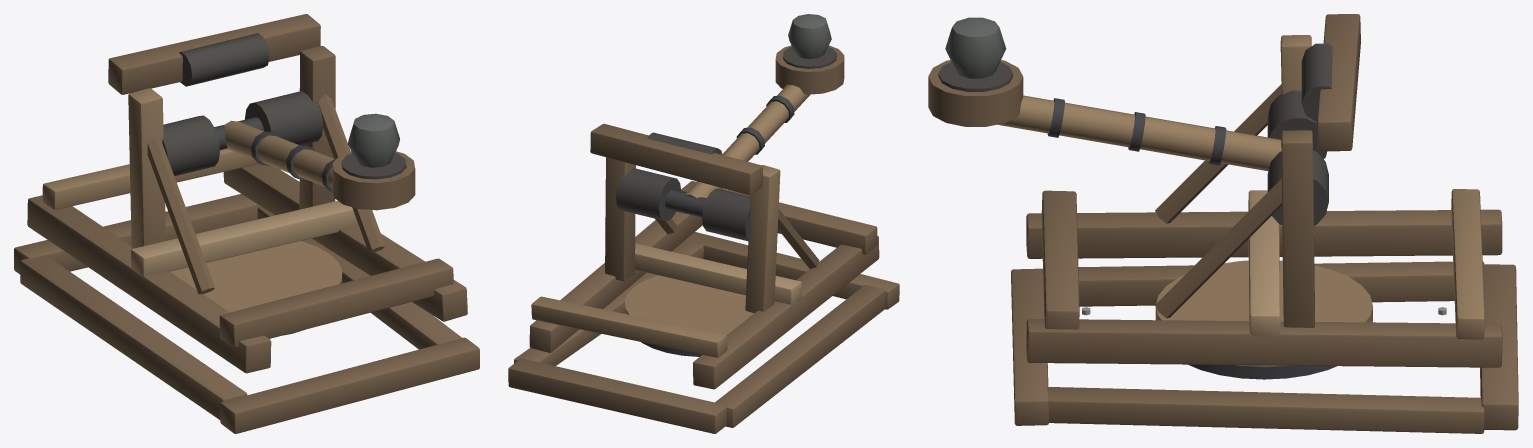
File: catapult.glb
3 renders of one model, left to right at view 1: azimuth 30°, elevation 25°; view 2: azimuth 150°, elevation 25°; view 3: azimuth 270°, elevation 25°, orthographic. The views are drawn at different scales.
Visible parts, largest first — view 1: Turret, Part, Barrels, Gun, Rocket0; view 2: Turret, Part, Barrels, Gun, Rocket0; view 3: Turret, Part, Barrels, Gun, Rocket0.
Boxes of the visible parts, x1,y1,x2,y2 form: Turret: [27, 14, 467, 373]; Part: [14, 194, 479, 433]; Barrels: [223, 120, 415, 210]; Gun: [162, 91, 323, 176]; Rocket0: [347, 113, 399, 167]; Turret: [529, 123, 879, 389]; Part: [508, 232, 899, 433]; Barrels: [684, 45, 844, 198]; Gun: [616, 168, 751, 241]; Rocket0: [788, 14, 831, 58]; Turret: [1026, 14, 1502, 367]; Part: [1011, 261, 1518, 433]; Barrels: [928, 60, 1281, 171]; Gun: [1267, 90, 1328, 225]; Rocket0: [945, 17, 1006, 78].
Bounding box in the file's own units: 1.02 × 1.11 × 1.74.
